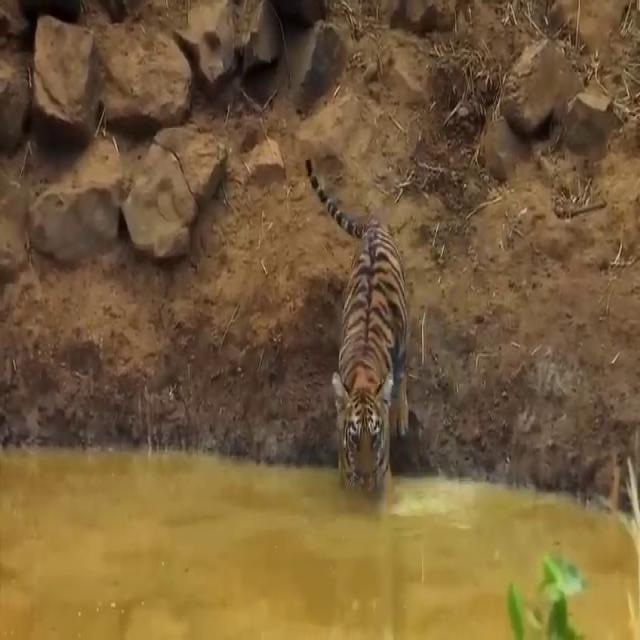tiger: (294, 146, 410, 506)
